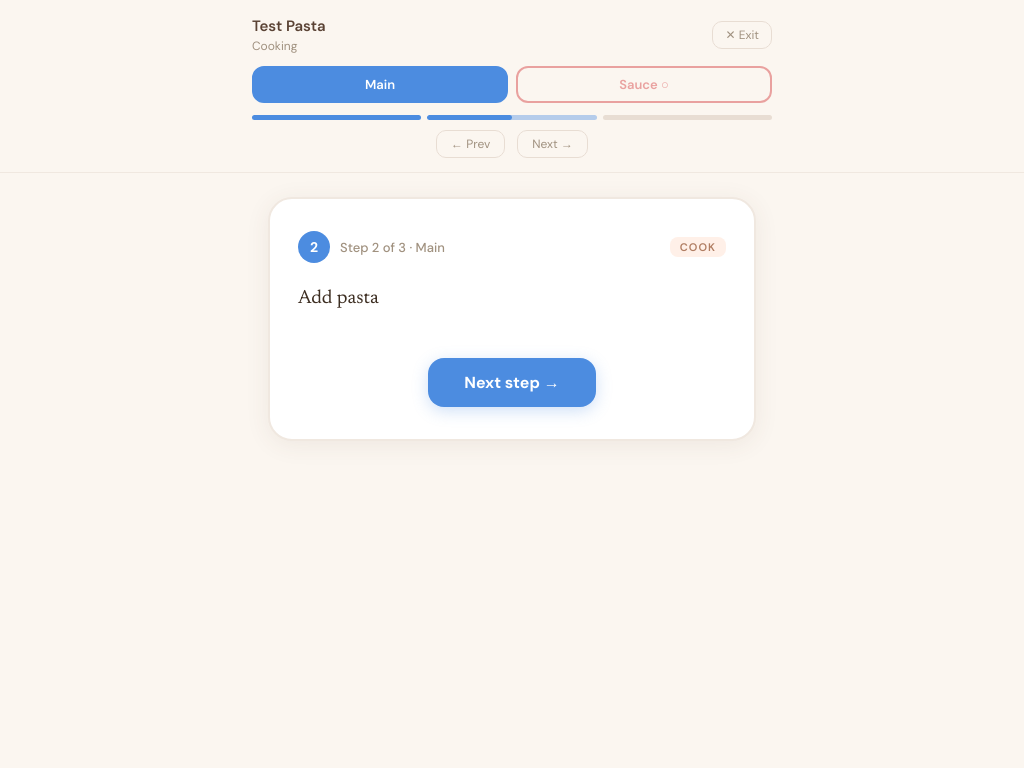
Test: CookingView › step review navigation › current step timer toast pill › shows current step timer pill when navigating away from a step with a running timer
The image size is (1024, 768).
Click the button "← Prev" at x=471, y=144, box [436,130,505,158]
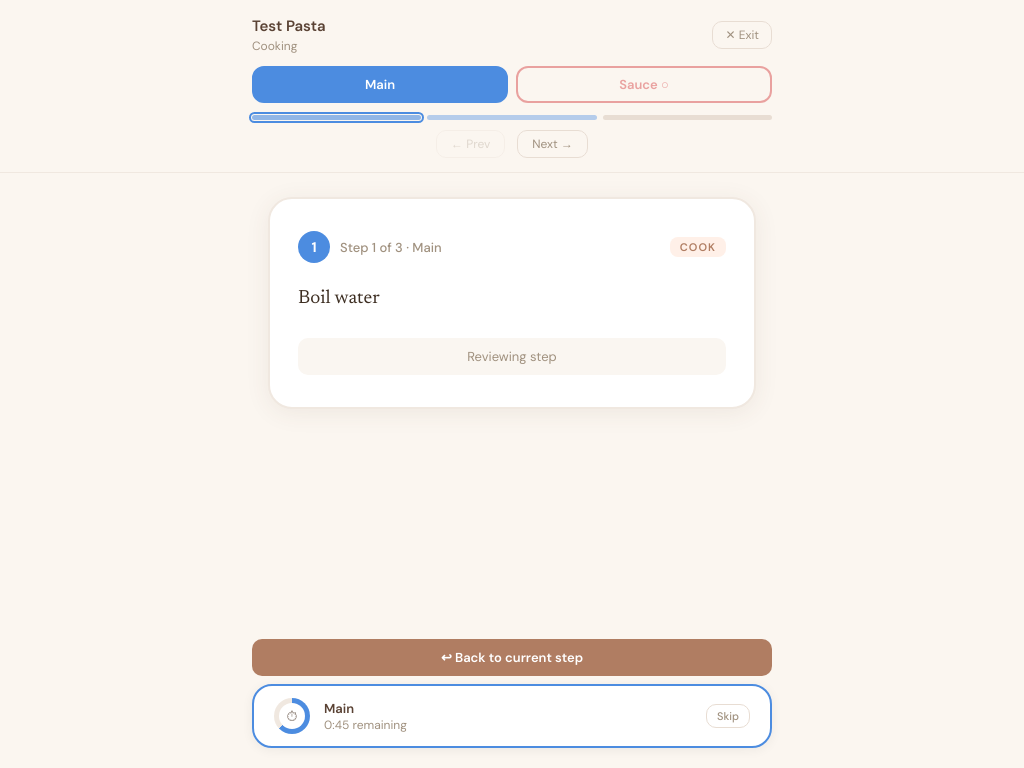
expect the text "0:45 remaining" is shown: met, box [324,716,407,732]
